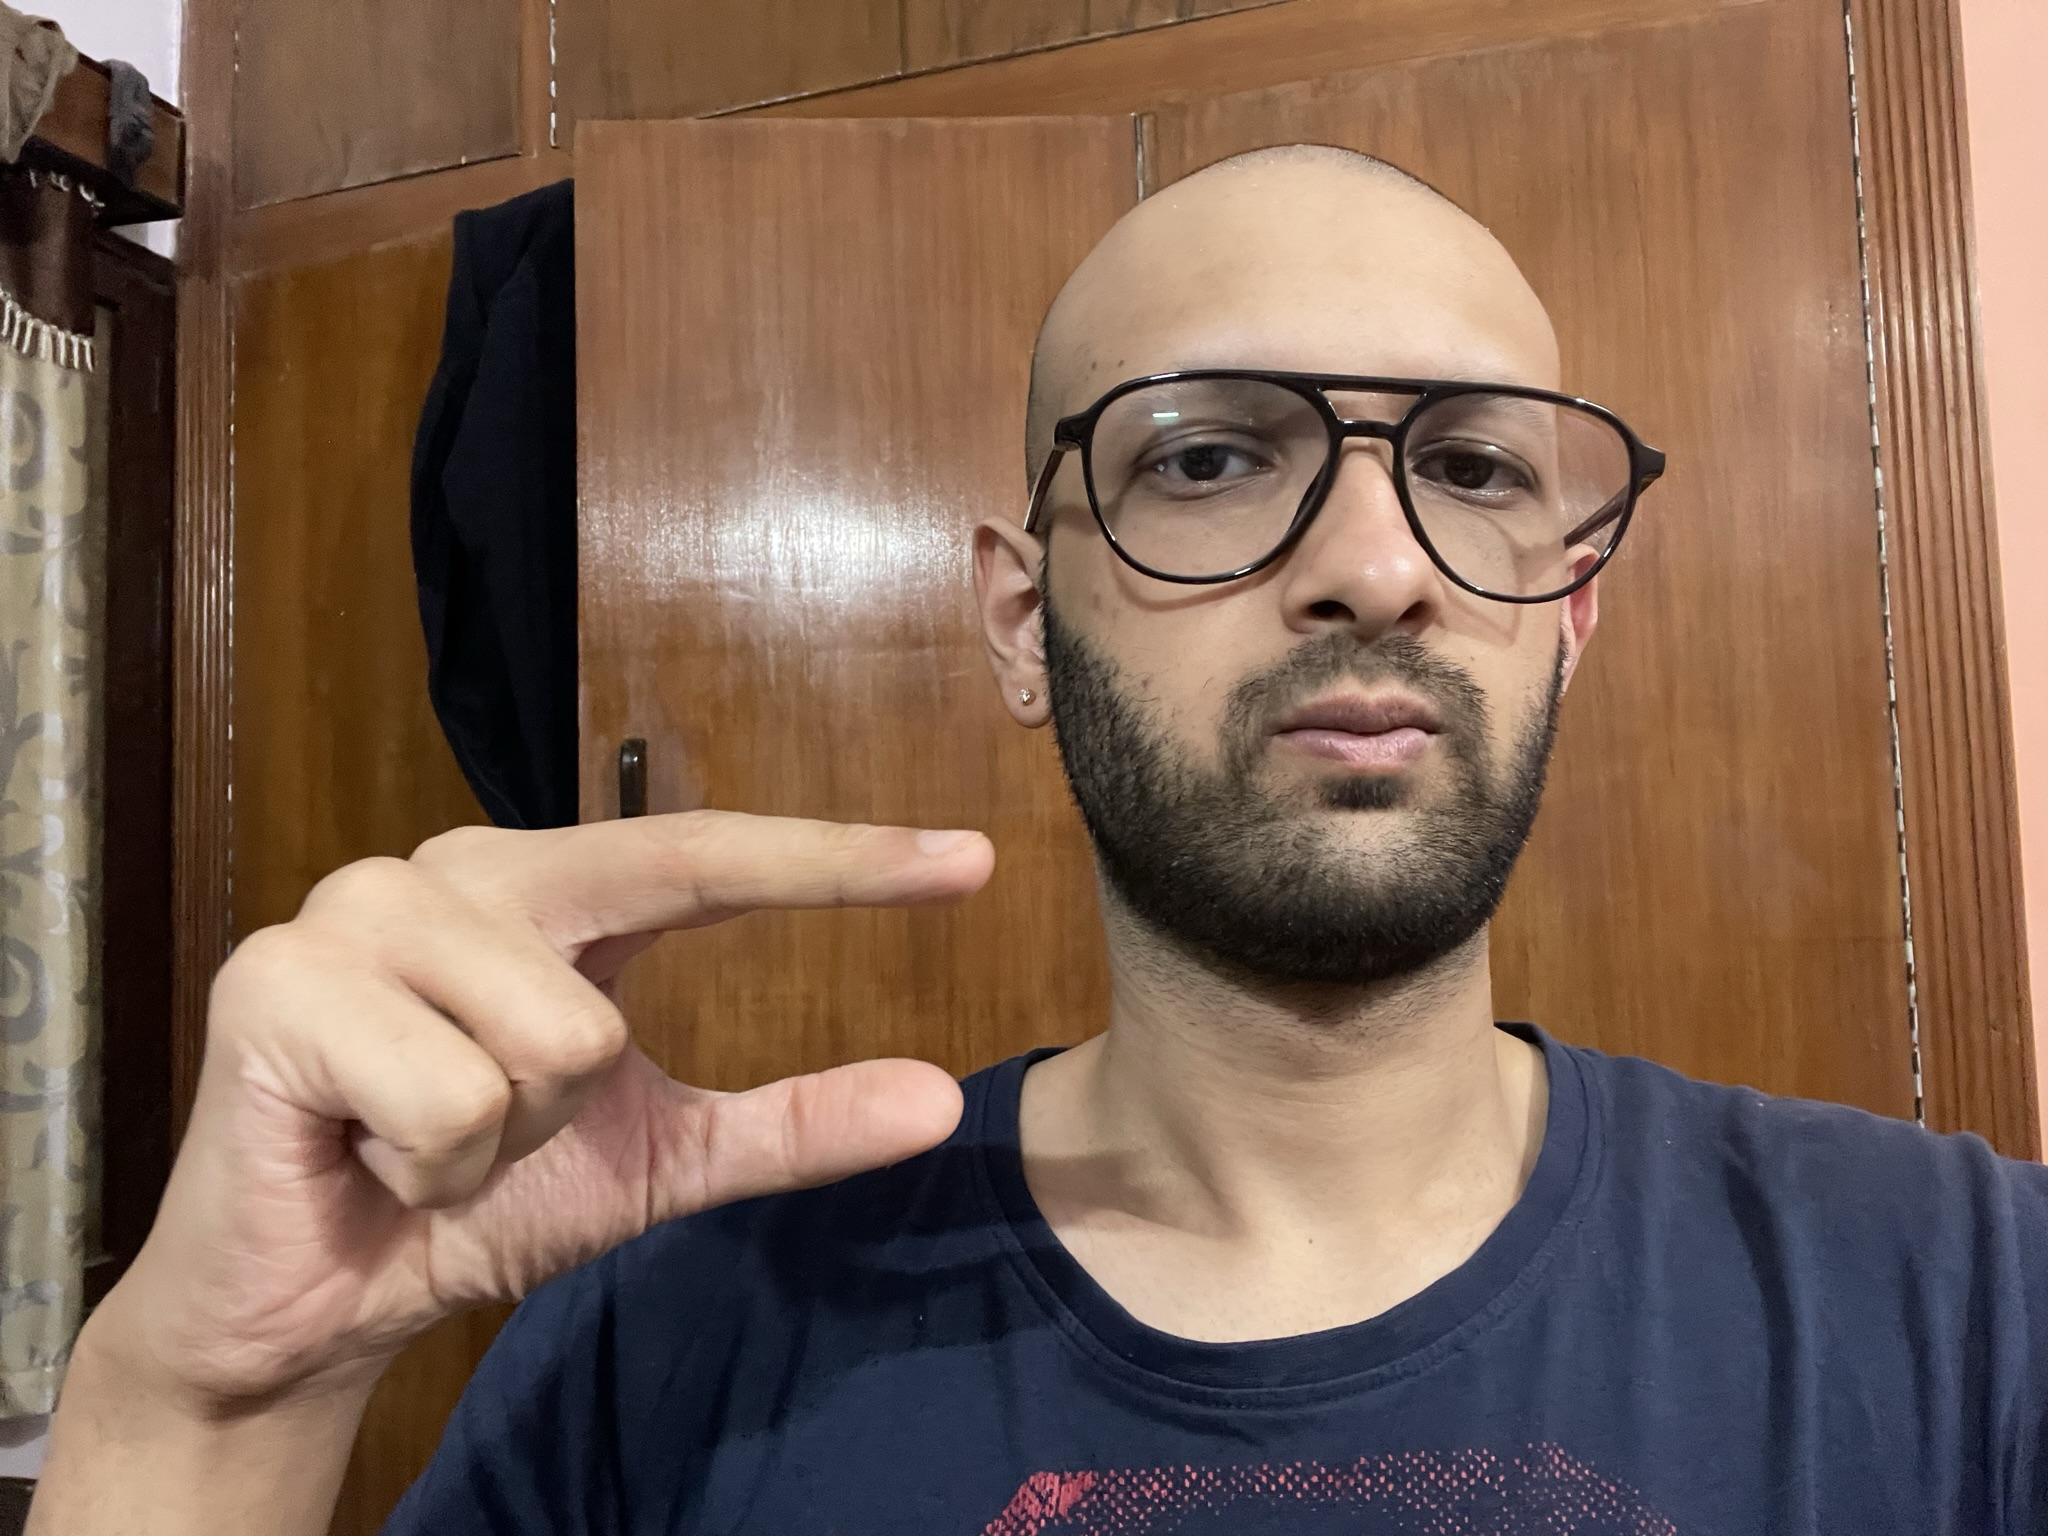No: (90, 800, 1014, 1397)
